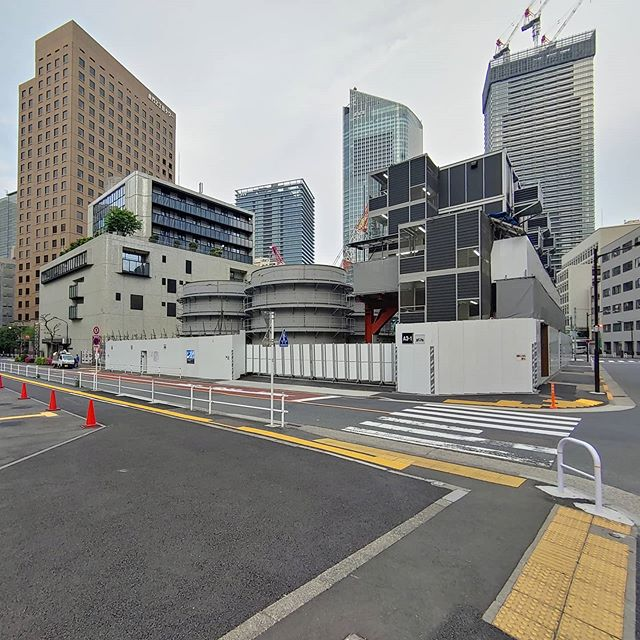building: (10, 19, 179, 329), (344, 151, 574, 375), (28, 172, 257, 354), (482, 30, 599, 249), (339, 85, 421, 254), (228, 172, 316, 264)
crosswalk: (337, 388, 592, 471)
sky: (183, 1, 469, 159)
street: (36, 352, 640, 492)
traffic cone: (77, 395, 105, 428), (40, 388, 60, 416), (17, 376, 33, 405)
